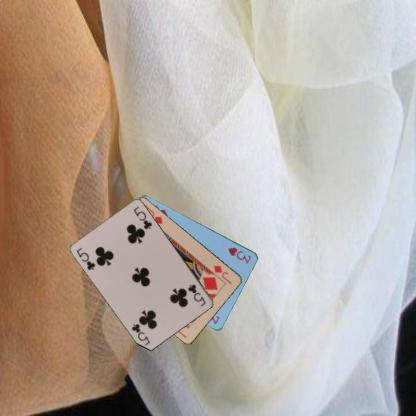3h: (223, 244, 252, 264)
5c: (74, 245, 97, 272), (186, 281, 208, 308)
Jd: (211, 262, 233, 286)
